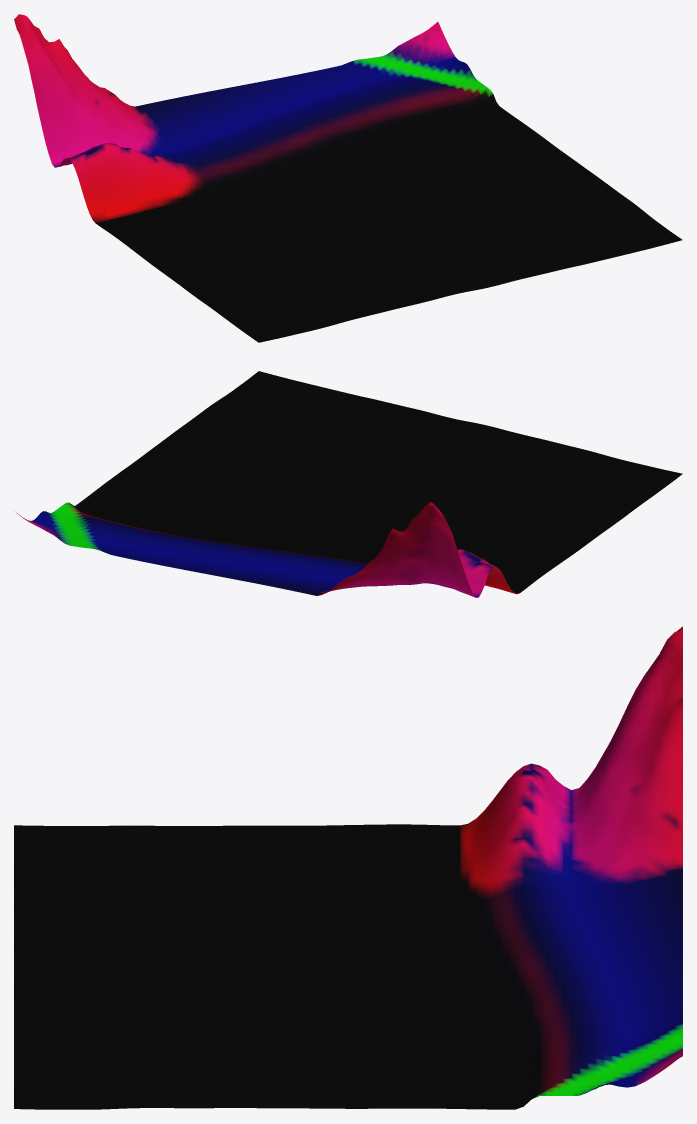
File: SM_FutureCity_Terrain_0_0.fbx
3 renders of one model, top to bottom at view 1: azimuth 30°, elevation 25°; view 2: azimuth 150°, elevation 25°; view 3: azimuth 270°, elevation 25°, orthographic. The views are drawn at different scales.
Parts seen in each view (by area): view 1: SM_FutureCity_Terrain_0_0; view 2: SM_FutureCity_Terrain_0_0; view 3: SM_FutureCity_Terrain_0_0.
Boxes of the visible parts, x1,y1,x2,y2 form: SM_FutureCity_Terrain_0_0: (14, 14, 682, 342); SM_FutureCity_Terrain_0_0: (16, 371, 682, 597); SM_FutureCity_Terrain_0_0: (14, 626, 682, 1109).
Size of the model in its own units: 50400 by 16992 by 50400.
